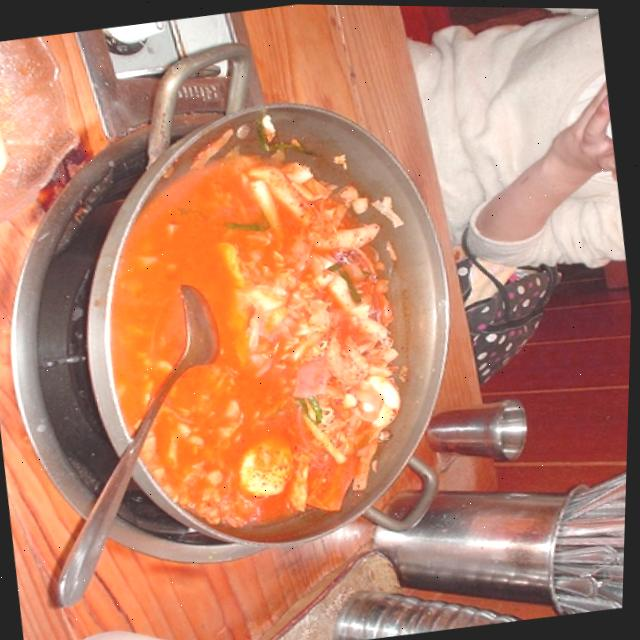汤锅炖物: (9, 87, 498, 593)
